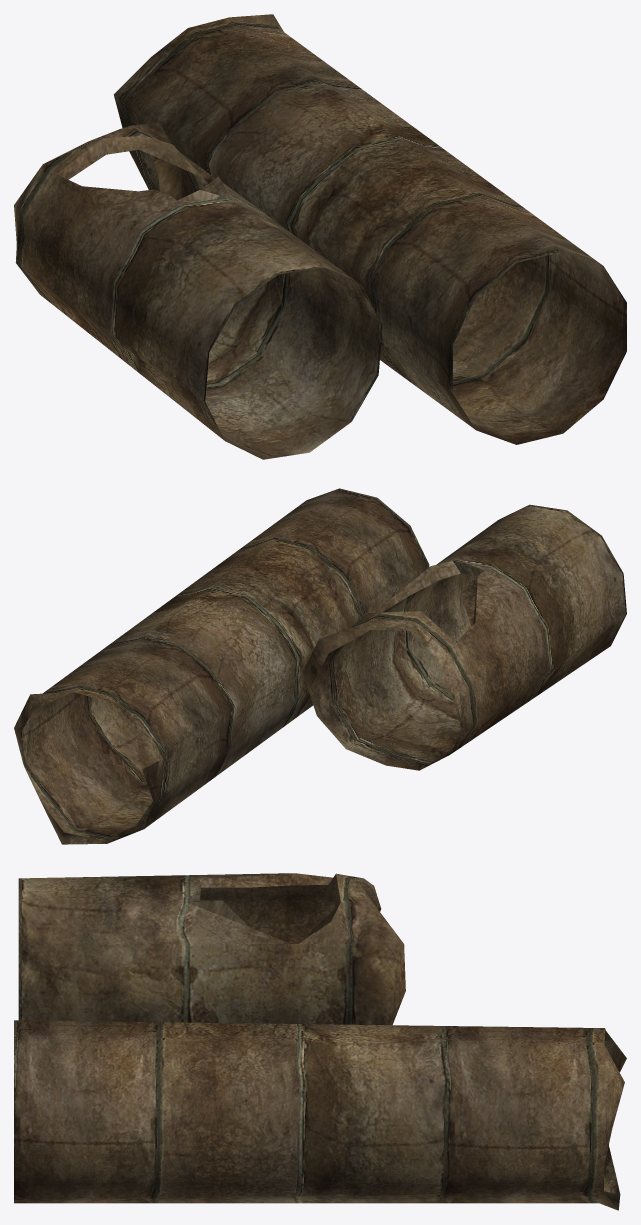
File: truba 2 isolation broken.FBX
3 views of the same model, one above another, from view 1: azimuth 30°, elevation 25°; view 2: azimuth 150°, elevation 25°; view 3: azimuth 270°, elevation 25° (orthographic). The views are drawn at different scales.
Parts seen in each view (by area): view 1: Object002, 2.5m isolation broken.007; view 2: Object002, 2.5m isolation broken.007; view 3: Object002, 2.5m isolation broken.007.
Boxes of the visible parts, <box> form: Object002: <box>113,14,626,444</box>; 2.5m isolation broken.007: <box>14,122,382,459</box>; Object002: <box>14,488,429,844</box>; 2.5m isolation broken.007: <box>302,504,626,770</box>; Object002: <box>14,1020,626,1210</box>; 2.5m isolation broken.007: <box>18,873,405,1025</box>.
Bounding box in the file's own units: 224 × 121 × 313.
